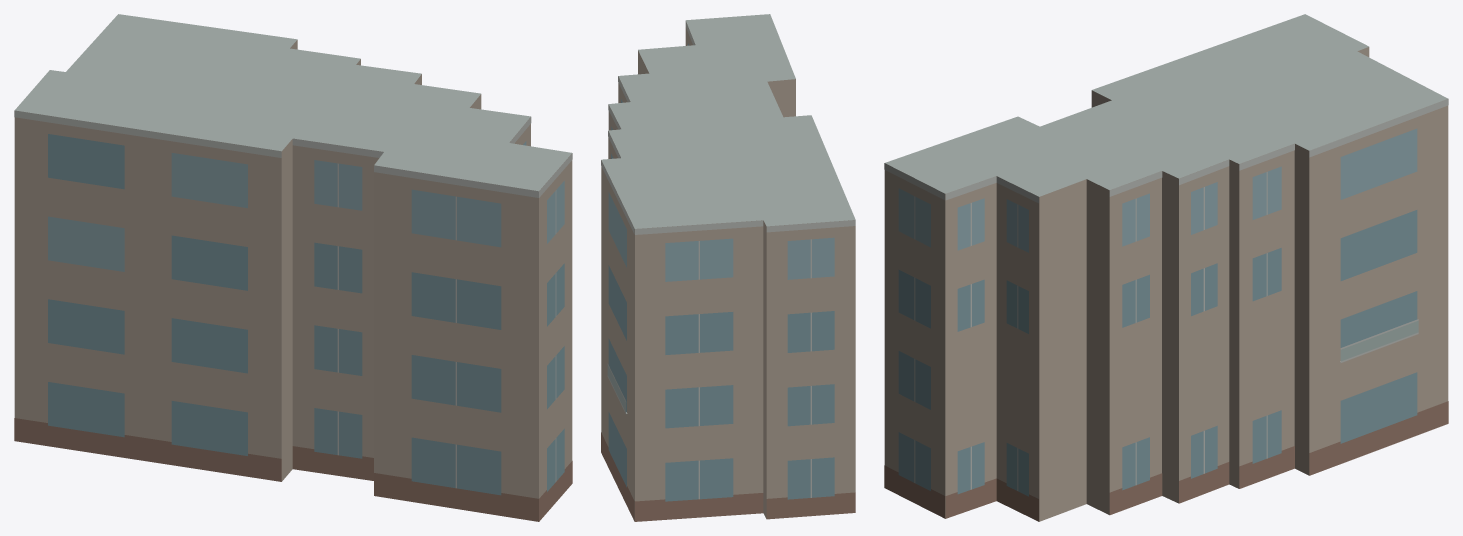
The model's file is survey-upis-32533702.glb.
The picture shows the model from 3 angles, left to right: view 1: azimuth 30°, elevation 25°; view 2: azimuth 150°, elevation 25°; view 3: azimuth 270°, elevation 25°; orthographic projection. The views are drawn at different scales.
Parts seen in each view (by area): view 1: survey-upis-32533702.tmp; view 2: survey-upis-32533702.tmp; view 3: survey-upis-32533702.tmp.
Part boxes in pixels (left/top/right/bottom): survey-upis-32533702.tmp: left=14, top=14, right=572, bottom=521; survey-upis-32533702.tmp: left=601, top=14, right=855, bottom=521; survey-upis-32533702.tmp: left=884, top=14, right=1448, bottom=521.
Size of the model in its own units: 14.25 by 11.8 by 18.56.
